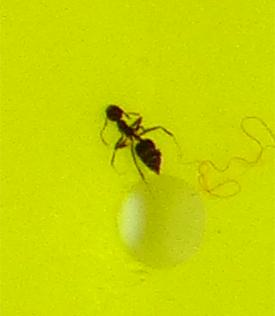Hymenoptera: (100, 100, 175, 216)
